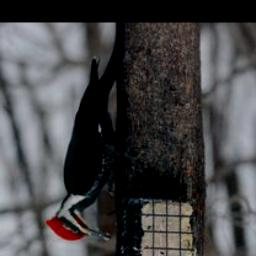Woodpecker: (46, 29, 148, 246)
